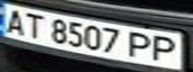0: (81, 22, 103, 52)
5: (63, 19, 84, 48)
7: (100, 25, 127, 55)
8: (45, 16, 69, 45)
A: (0, 6, 30, 35)
P: (145, 34, 184, 64), (124, 29, 157, 60)
T: (18, 10, 48, 39)
